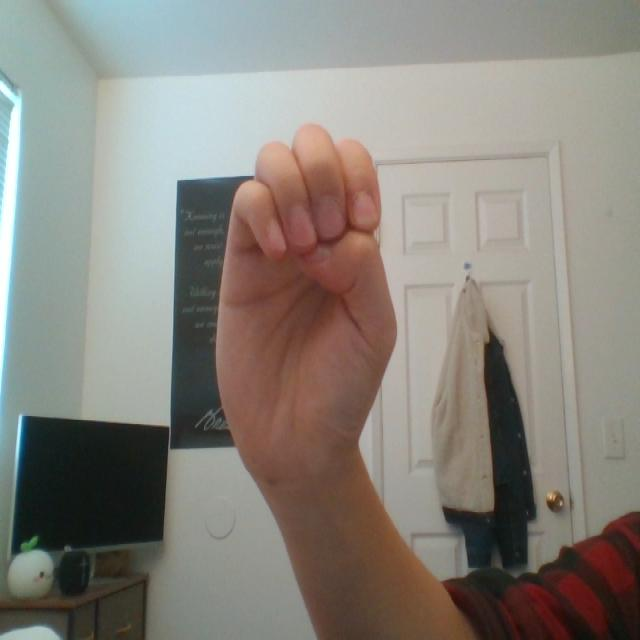E: (196, 74, 455, 513)
